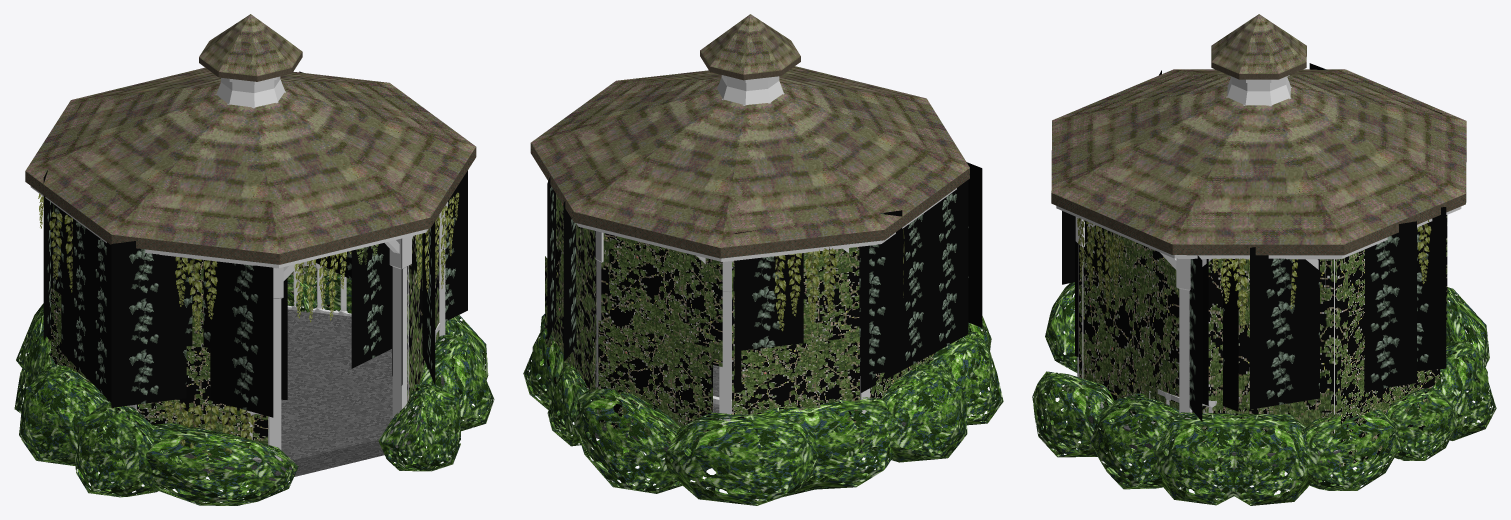
The model's file is gazebo_final.fbx.
3 views of the same model, side by side, from view 1: azimuth 30°, elevation 25°; view 2: azimuth 150°, elevation 25°; view 3: azimuth 270°, elevation 25° (orthographic). The views are drawn at different scales.
Parts seen in each view (by area): view 1: Cylinder.024, Cylinder.021, Plane.011, Plane.010, Icosphere.009, Plane.039, Plane.016, Icosphere.010, Icosphere.011, Cube.008, Icosphere.016, Cylinder.027 (+20 smaller); view 2: Cylinder.024, Plane.039, Plane.042, Icosphere.013, Plane.028, Plane.027, Icosphere.012, Plane.030, Icosphere.017, Icosphere.011, Plane.031, Cylinder.027 (+15 smaller); view 3: Cylinder.024, Plane.045, Plane.020, Icosphere.028, Plane.017, Icosphere.027, Icosphere.014, Icosphere.016, Cylinder.027, Plane.038, Icosphere.017, Icosphere.015 (+14 smaller).
Boxes of the visible parts, x1=… form: Cylinder.024: x1=25, y1=67, x2=476, y2=264; Cylinder.021: x1=77, y1=309, x2=444, y2=480; Plane.011: x1=111, y1=241, x2=192, y2=407; Plane.010: x1=203, y1=260, x2=273, y2=417; Icosphere.009: x1=124, y1=423, x2=298, y2=505; Plane.039: x1=46, y1=202, x2=111, y2=402; Plane.016: x1=351, y1=170, x2=467, y2=368; Icosphere.010: x1=74, y1=401, x2=182, y2=497; Icosphere.011: x1=19, y1=363, x2=120, y2=466; Cube.008: x1=126, y1=202, x2=447, y2=460; Icosphere.016: x1=378, y1=383, x2=460, y2=471; Cylinder.027: x1=199, y1=14, x2=302, y2=81; Cylinder.024: x1=530, y1=66, x2=969, y2=258; Plane.039: x1=860, y1=180, x2=968, y2=392; Plane.042: x1=734, y1=210, x2=902, y2=392; Icosphere.013: x1=665, y1=412, x2=818, y2=505; Plane.028: x1=609, y1=234, x2=722, y2=366; Plane.027: x1=598, y1=320, x2=711, y2=445; Icosphere.012: x1=710, y1=397, x2=895, y2=497; Plane.030: x1=734, y1=336, x2=859, y2=442; Icosphere.017: x1=575, y1=387, x2=698, y2=493; Icosphere.011: x1=860, y1=362, x2=967, y2=462; Plane.031: x1=733, y1=247, x2=859, y2=367; Cylinder.027: x1=700, y1=14, x2=800, y2=80; Cylinder.024: x1=1051, y1=69, x2=1466, y2=255; Plane.045: x1=1250, y1=221, x2=1416, y2=409; Plane.020: x1=1079, y1=220, x2=1179, y2=422; Icosphere.028: x1=1151, y1=412, x2=1318, y2=505; Plane.017: x1=1192, y1=259, x2=1333, y2=437; Icosphere.027: x1=1090, y1=393, x2=1209, y2=489; Icosphere.014: x1=1283, y1=409, x2=1400, y2=490; Icosphere.016: x1=1032, y1=371, x2=1119, y2=457; Cylinder.027: x1=1211, y1=14, x2=1306, y2=79; Plane.038: x1=1417, y1=207, x2=1446, y2=370; Icosphere.017: x1=1425, y1=341, x2=1496, y2=440; Icosphere.015: x1=1382, y1=387, x2=1456, y2=460.
Size of the model in its own units: 4197 by 3915 by 4048.
Materials: 9 (7 with a texture image).
